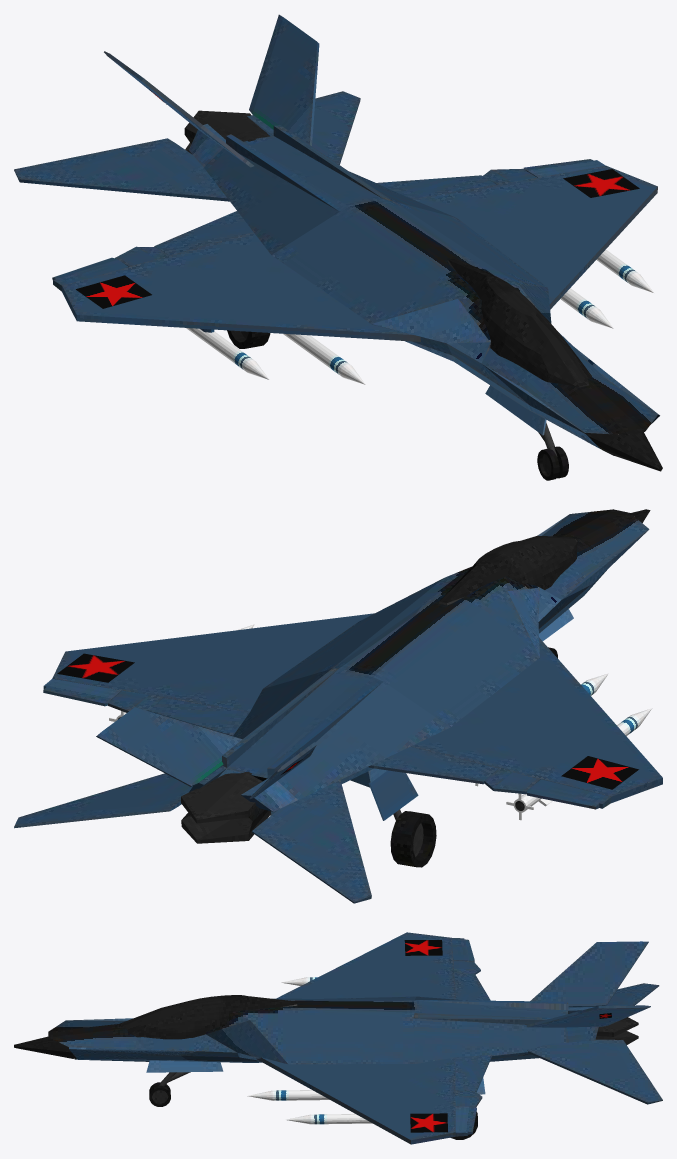
3 views of the same model, one above another, from view 1: azimuth 30°, elevation 25°; view 2: azimuth 150°, elevation 25°; view 3: azimuth 270°, elevation 25° (orthographic). The views are drawn at different scales.
Visible parts, largest first — view 1: sphere_0, cuboid_5, cuboid_10, cuboid_15, sphere_3, cuboid_19, cuboid_16, cuboid_6, cuboid_21, cuboid_11, sphere_1, cube_86 (+9 smaller); view 2: sphere_0, cuboid_5, cuboid_10, cuboid_15, cuboid_19, sphere_3, cuboid_16, cuboid_21, cuboid_6, cylinder_75, cuboid_11, cuboid_22 (+9 smaller); view 3: sphere_0, cuboid_10, cuboid_5, cuboid_16, cuboid_18, sphere_3, cuboid_19, cuboid_11, cuboid_59, cuboid_6, cuboid_15, cube_87 (+10 smaller).
Part boxes in pixels (x1=…): sphere_0: x1=189, y1=115, x2=659, y2=455; cuboid_5: x1=62, y1=232, x2=420, y2=341; cuboid_10: x1=413, y1=165, x2=657, y2=309; cuboid_15: x1=14, y1=138, x2=229, y2=201; sphere_3: x1=448, y1=258, x2=591, y2=387; cuboid_19: x1=249, y1=14, x2=319, y2=145; cuboid_16: x1=252, y1=91, x2=360, y2=164; cuboid_6: x1=154, y1=211, x2=252, y2=255; cuboid_21: x1=184, y1=110, x2=269, y2=143; cuboid_11: x1=376, y1=175, x2=496, y2=198; sphere_1: x1=585, y1=432, x2=662, y2=471; cube_86: x1=76, y1=275, x2=151, y2=308; sphere_0: x1=189, y1=509, x2=649, y2=815; cuboid_5: x1=411, y1=637, x2=662, y2=802; cuboid_10: x1=52, y1=613, x2=374, y2=712; cuboid_15: x1=252, y1=780, x2=371, y2=903; cuboid_19: x1=96, y1=707, x2=242, y2=786; sphere_3: x1=439, y1=535, x2=577, y2=605; cuboid_16: x1=14, y1=773, x2=192, y2=828; cuboid_21: x1=181, y1=771, x2=264, y2=823; cuboid_6: x1=368, y1=746, x2=497, y2=784; cylinder_75: x1=390, y1=811, x2=436, y2=867; cuboid_11: x1=149, y1=698, x2=249, y2=735; cuboid_22: x1=181, y1=810, x2=270, y2=843; sphere_0: x1=48, y1=996, x2=598, y2=1064; cuboid_10: x1=256, y1=1057, x2=455, y2=1144; cuboid_5: x1=276, y1=932, x2=455, y2=999; cuboid_16: x1=526, y1=1039, x2=662, y2=1104; cuboid_18: x1=530, y1=941, x2=648, y2=1006; sphere_3: x1=117, y1=995, x2=297, y2=1039; cuboid_19: x1=526, y1=1005, x2=650, y2=1027; cuboid_11: x1=455, y1=1054, x2=491, y2=1092; cuboid_59: x1=146, y1=1060, x2=223, y2=1072; cuboid_6: x1=454, y1=973, x2=490, y2=1000; cuboid_15: x1=568, y1=983, x2=659, y2=1008; cube_87: x1=410, y1=1113, x2=447, y2=1132.
Size of the model in its own units: 11.68 by 3.8 by 16.29.
10 materials, 10 textured.
